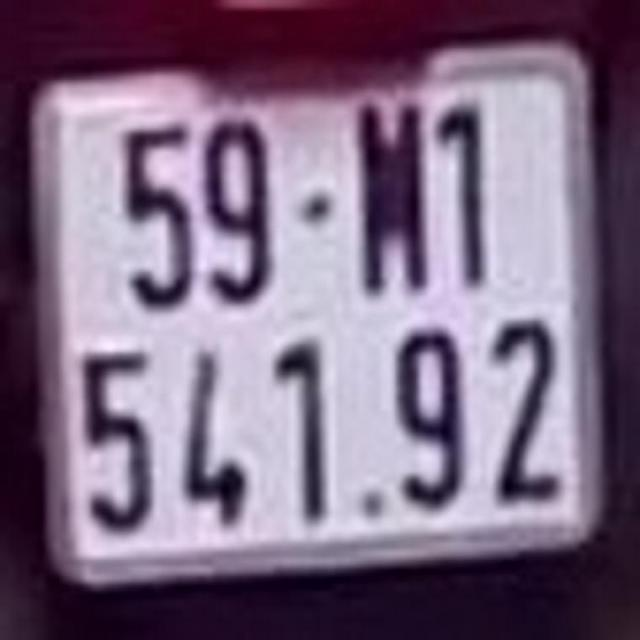1: (427, 91, 509, 295), (270, 330, 350, 528)
2: (487, 310, 571, 516)
4: (176, 345, 268, 537)
5: (112, 102, 202, 324), (69, 337, 168, 537)
9: (386, 316, 474, 514), (202, 104, 280, 312)
M: (348, 92, 431, 294)
